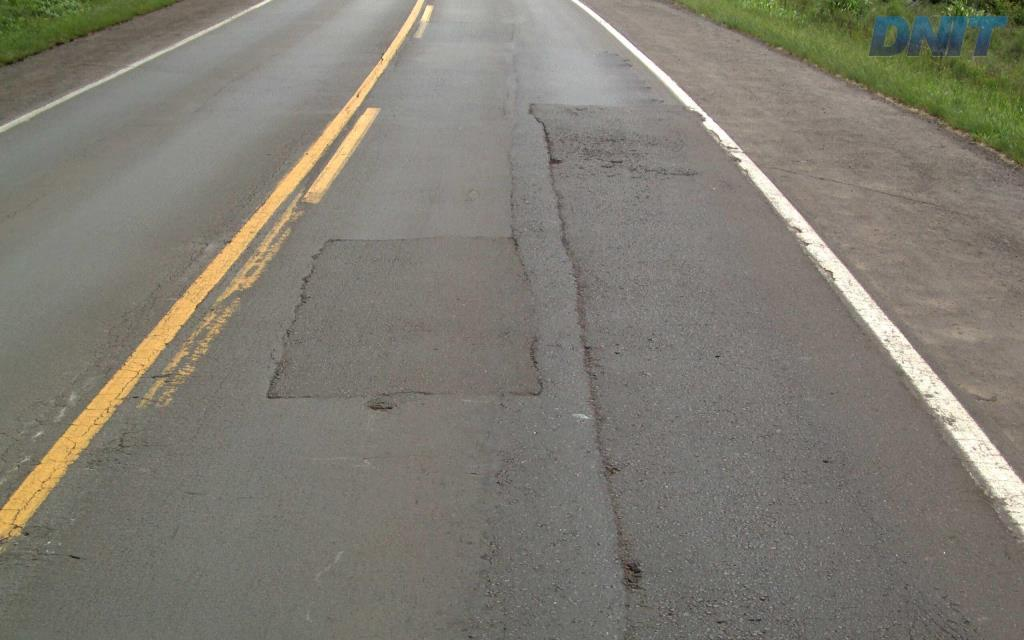crack: (614, 523, 646, 593)
pothole: (362, 395, 398, 414), (547, 155, 564, 166)
